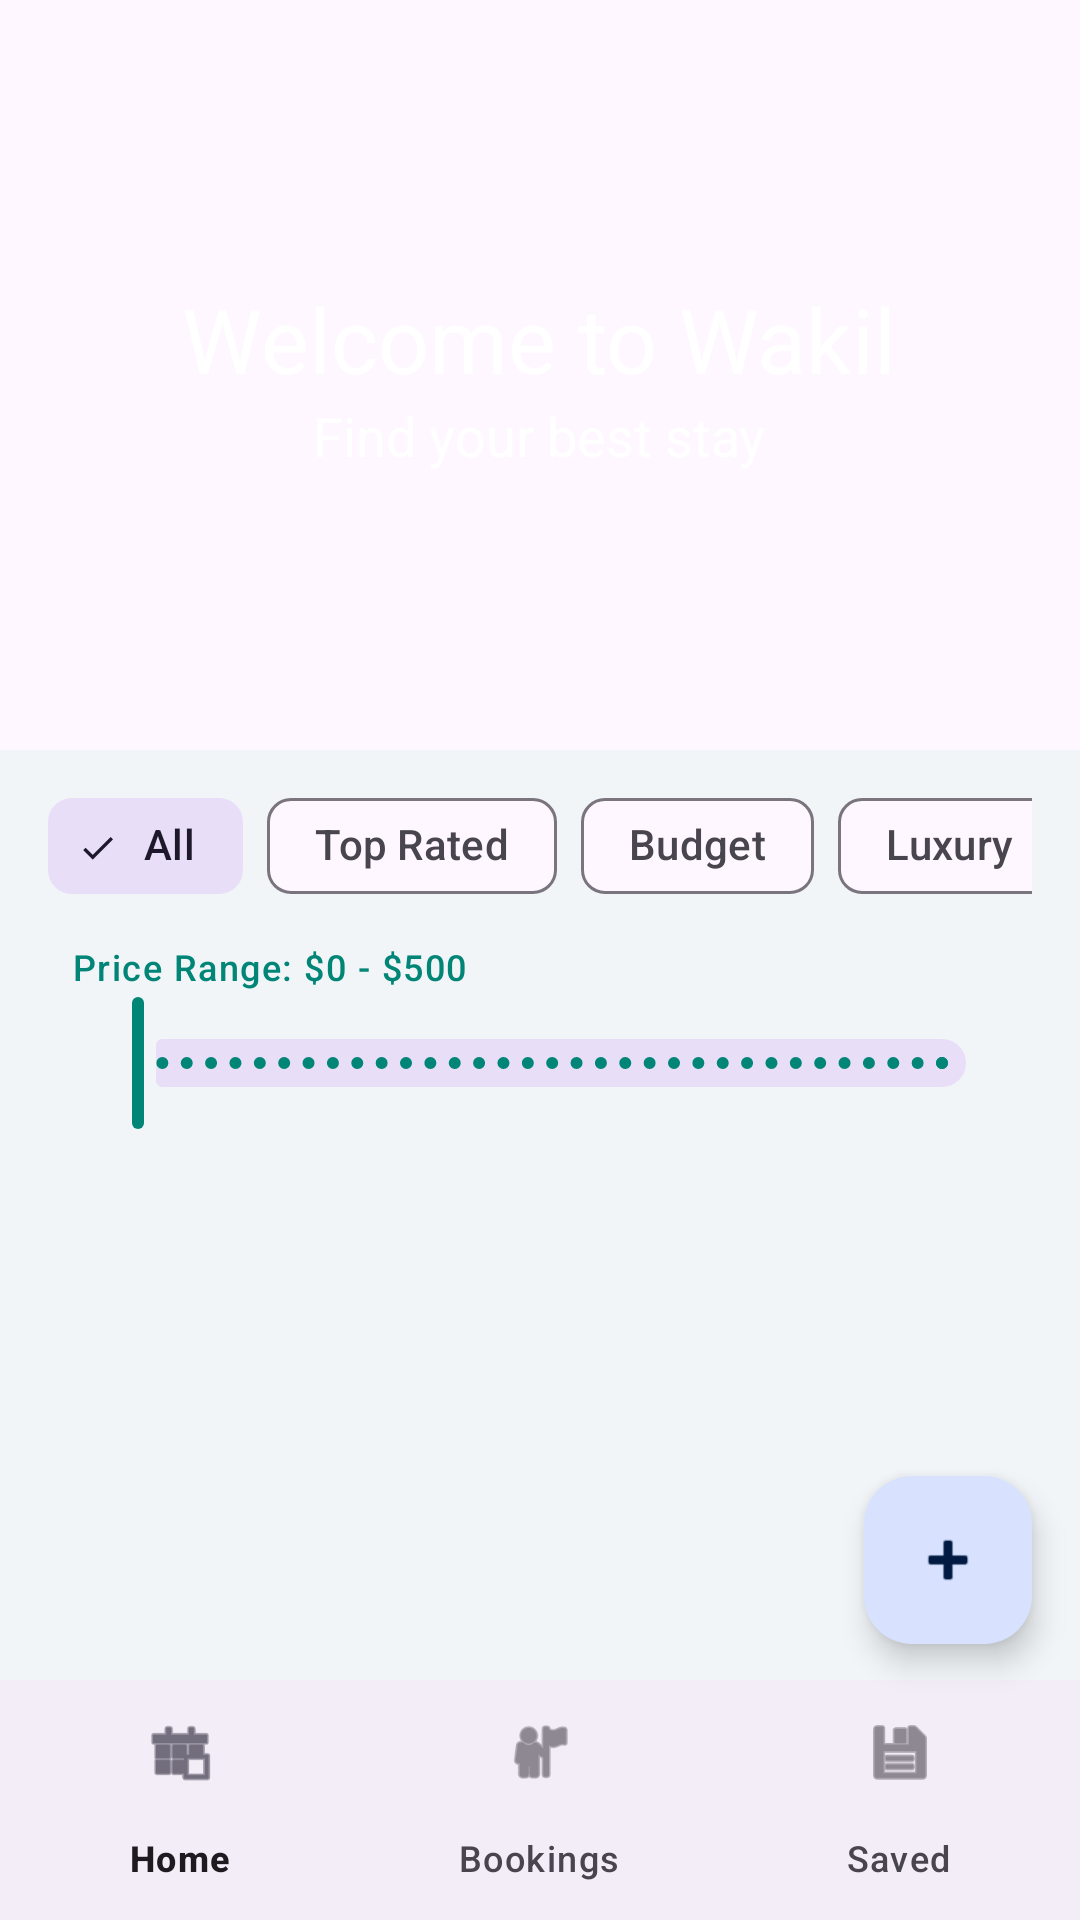

Icon bounding boxes for this 1080×1920 phone screenshot, format [x1, y1, x2, y2]:
add: [864, 1476, 1032, 1644]
